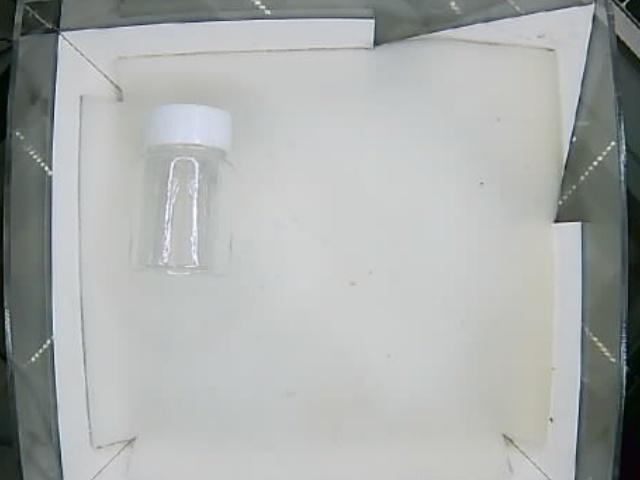Bottle: (127, 106, 237, 277)
